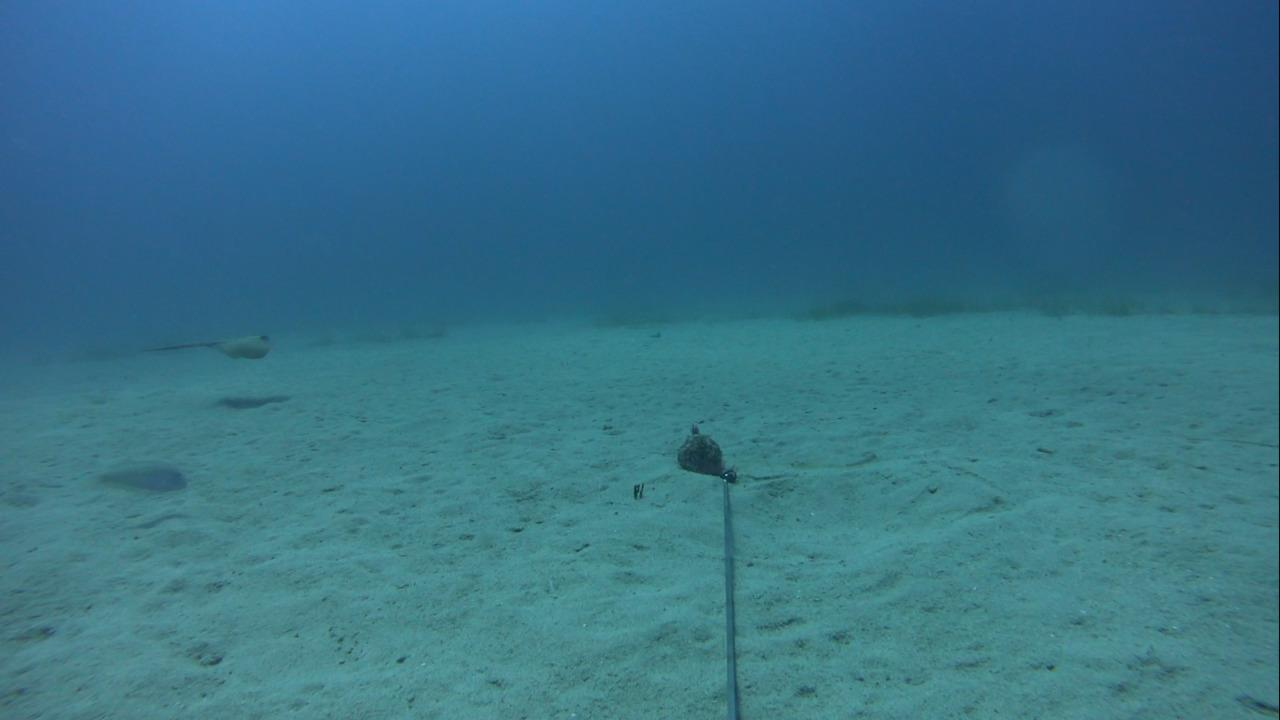myliobatis: (133, 326, 282, 368)
raor: (89, 461, 187, 500)
